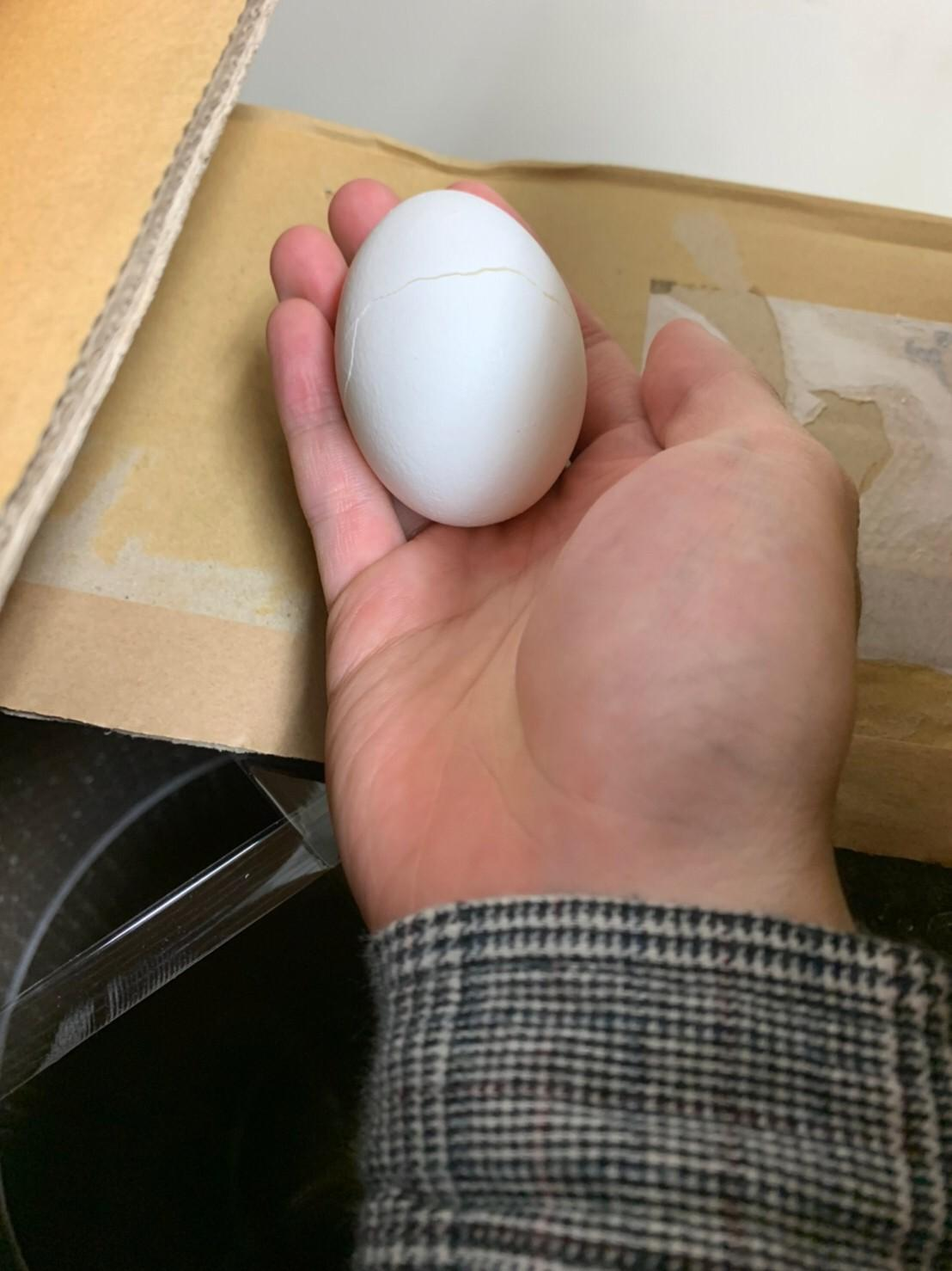egg: (326, 187, 595, 525)
